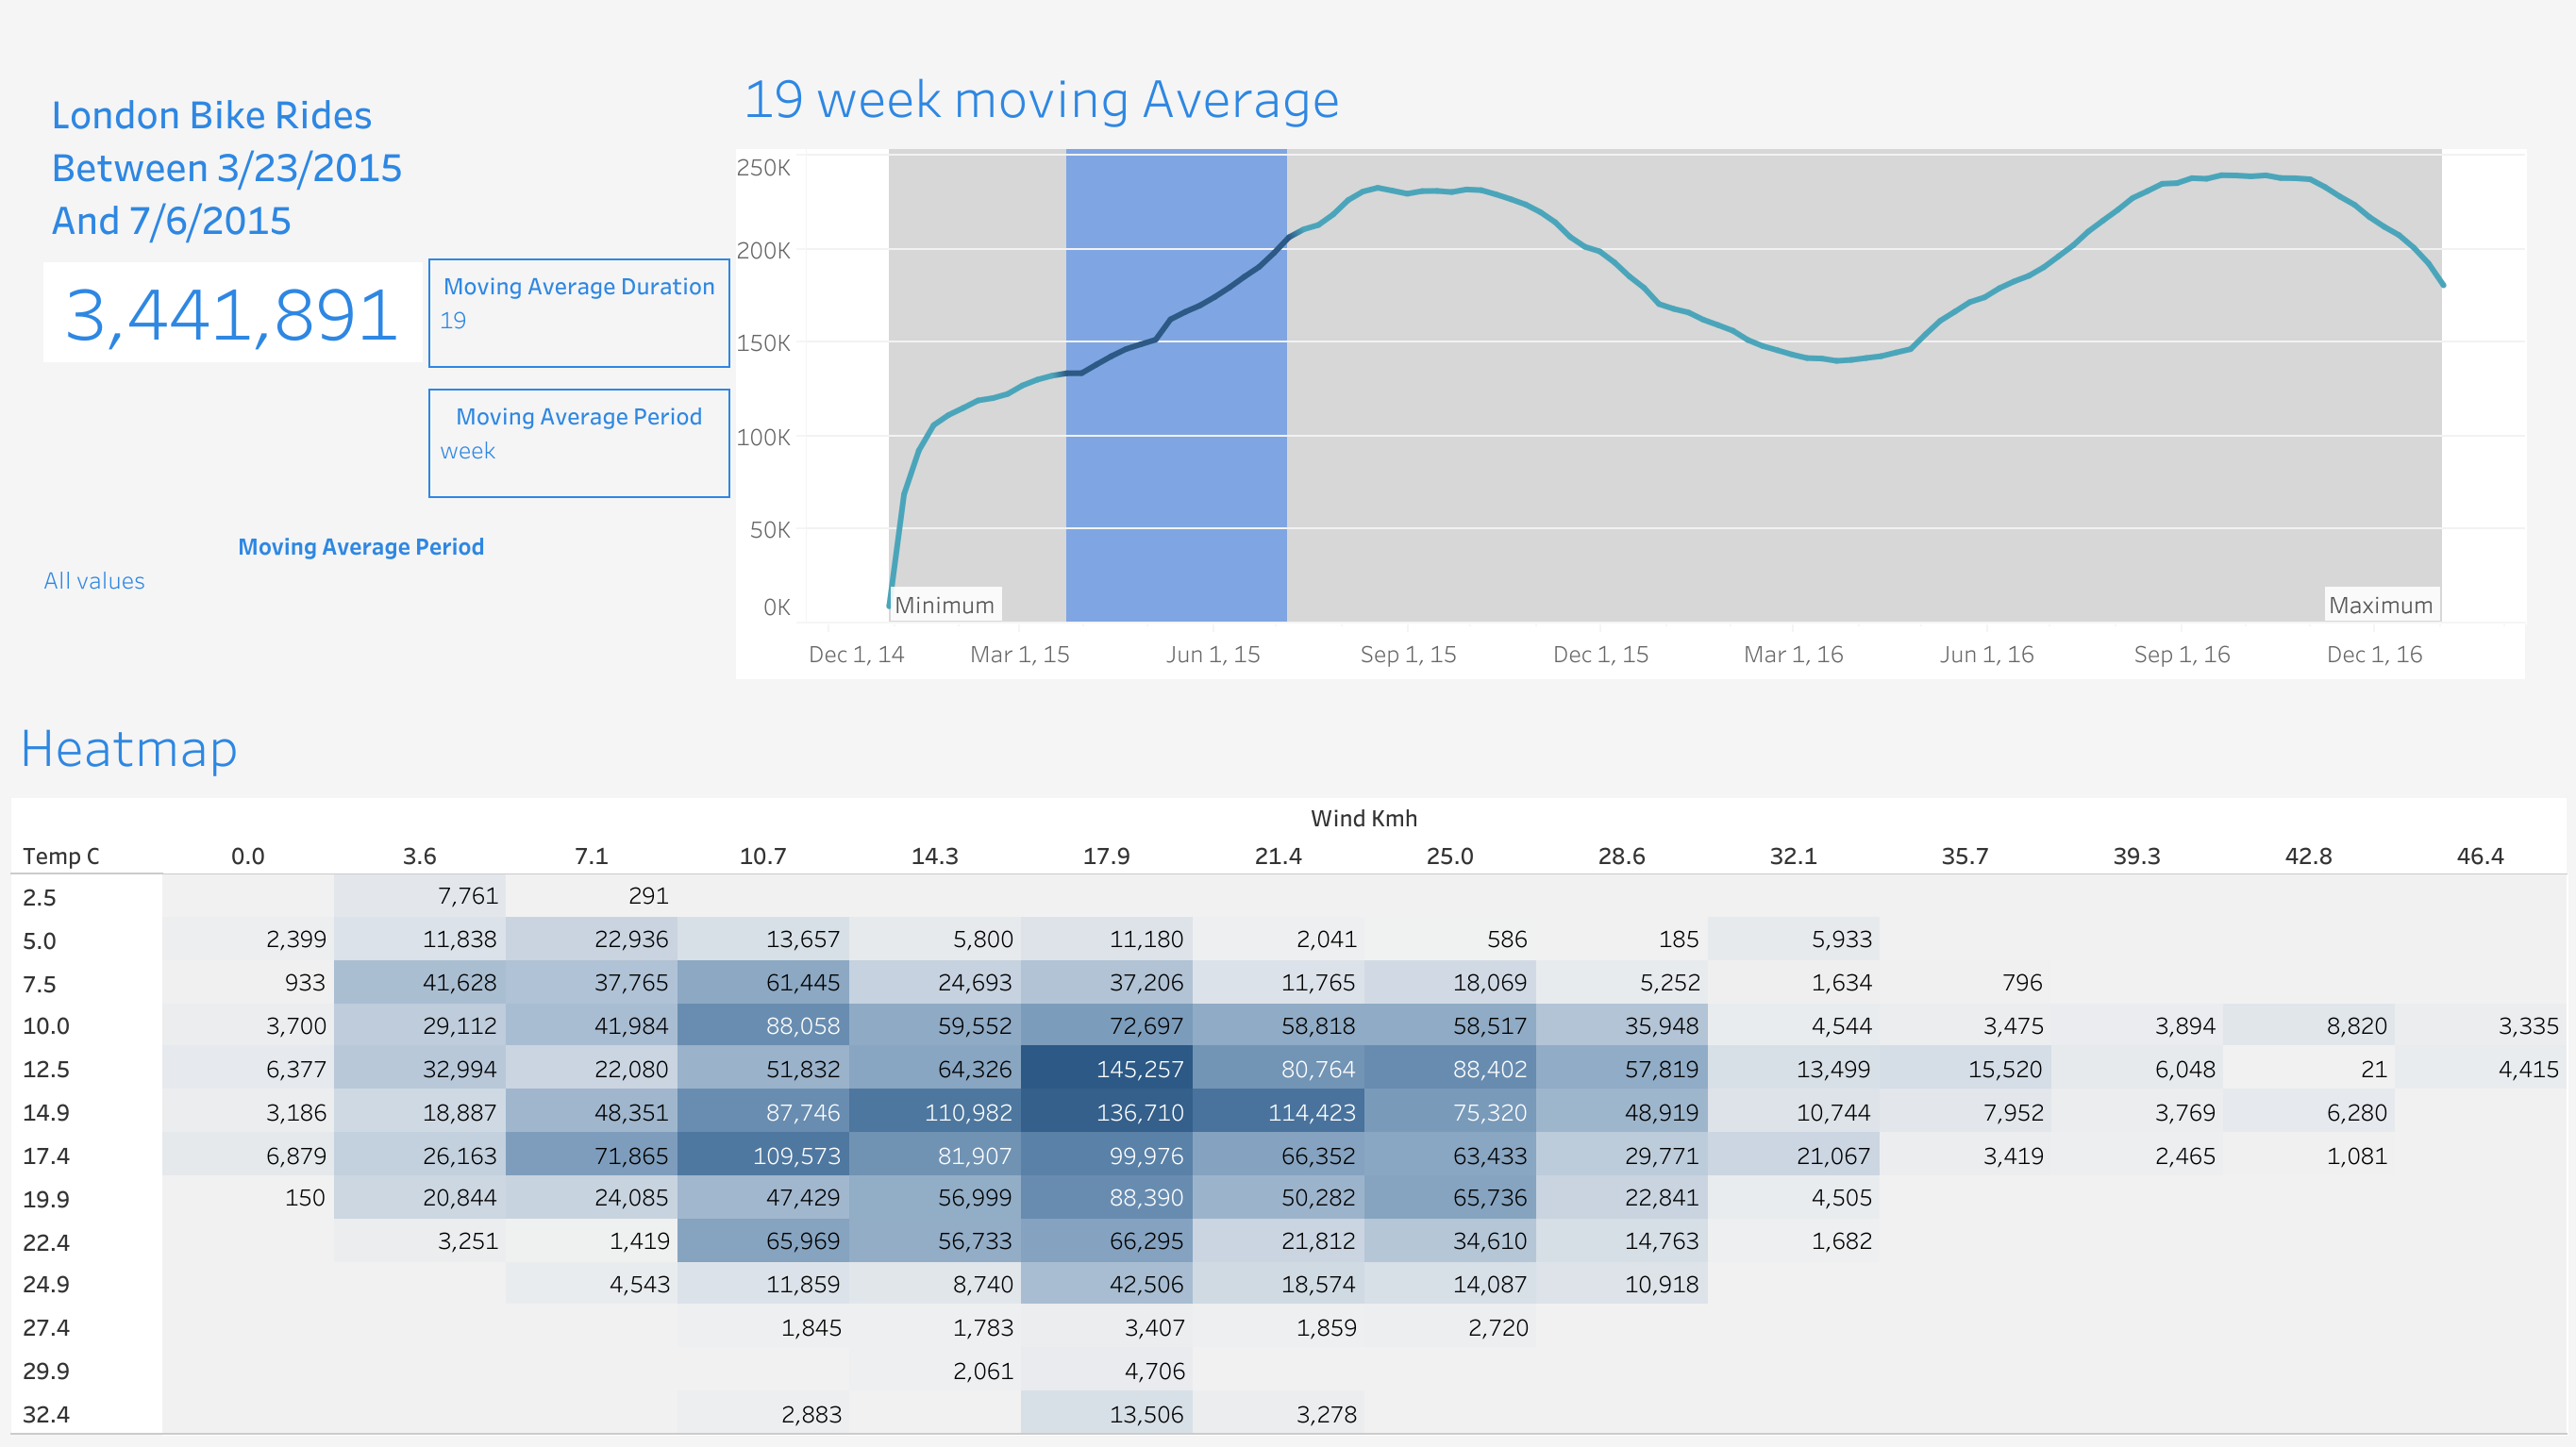

What the dashboard file says about the page in this screenshot:
{"tool":"tableau","page":{"name":"London Bike Rides","canvas":[1366,768],"ordinal":0},"visuals":[{"type":"worksheet","title":"Moving Average Period","mark":"Automatic","rows":["Calculation1"],"cols":["Calculation_1169598914844258304"],"box":[385,21,958,344]},{"type":"worksheet","title":"Total Rides","mark":"Automatic","box":[18,35,369,256]},{"type":"parameter","param":"[Parameters].[Parameter 2]","box":[227,137,160,58]},{"type":"parameter","param":"[Parameters].[Parameter 1]","box":[227,206,160,58]},{"type":"filter","title":"Moving Average Period","param":"[federated.0sa5deg1b8quvi1fndwrz0jp6hzg].[none:Calculation_1169598914844258304:q","box":[20,279,343,61]},{"type":"worksheet","title":"Heatmap","mark":"Square","rows":["Actual Temp (bin)"],"cols":["Wind Speed Kmh (bin)"],"box":[1,365,1365,401]}]}

Visuals, with their boxes in screenshot pixels (x1, y1, x2, y2), scaled from the page's 1366x768 canvas onto the 2576x1447 screenshot:
"Moving Average Period" worksheet: [x1=726, y1=40, x2=2533, y2=688]
"Total Rides" worksheet: [x1=34, y1=66, x2=729, y2=548]
parameter: [x1=428, y1=258, x2=729, y2=367]
parameter: [x1=428, y1=388, x2=729, y2=497]
"Moving Average Period" filter: [x1=38, y1=525, x2=684, y2=640]
"Heatmap" worksheet (Square marks): [x1=2, y1=688, x2=2575, y2=1443]
